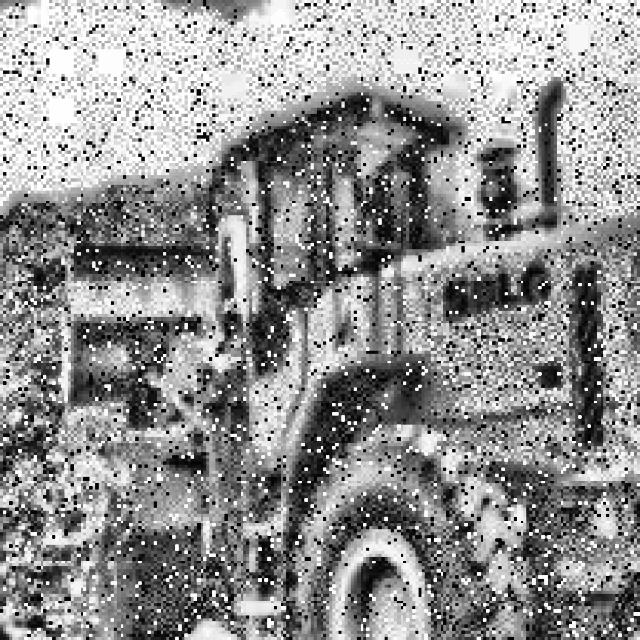buldozerpayloadergrader: (34, 86, 640, 640)
